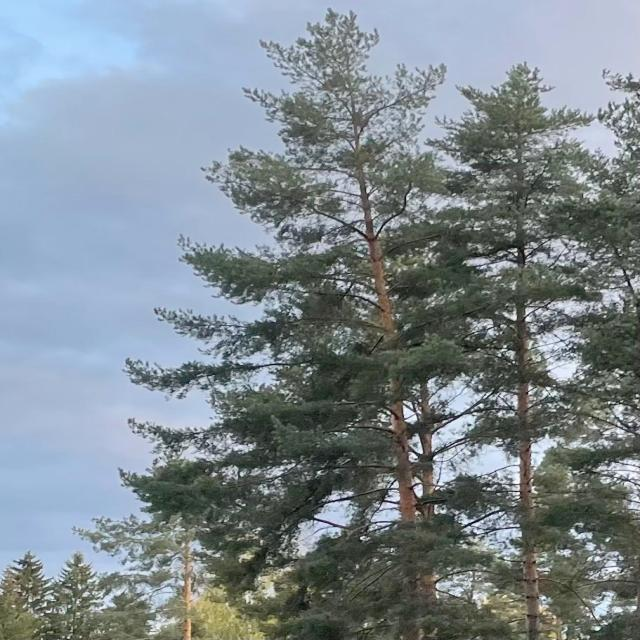pine: (121, 3, 495, 640)
